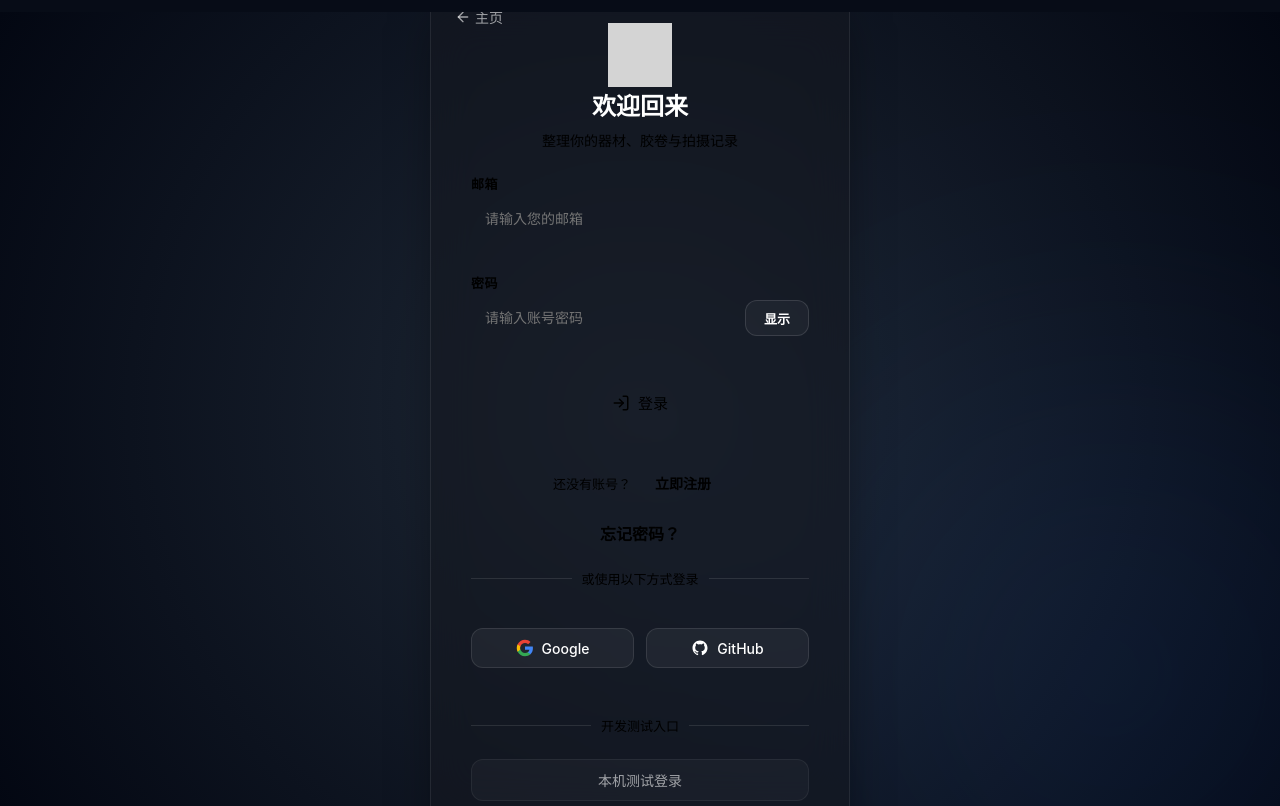
Test: Auth frontend closure › register flow sends signup email redirect and navigates to check-email notice
This screenshot has width=1280, height=806.
Click the button "立即注册" at (683,483), box x1=639 y1=465 x2=727 y2=501
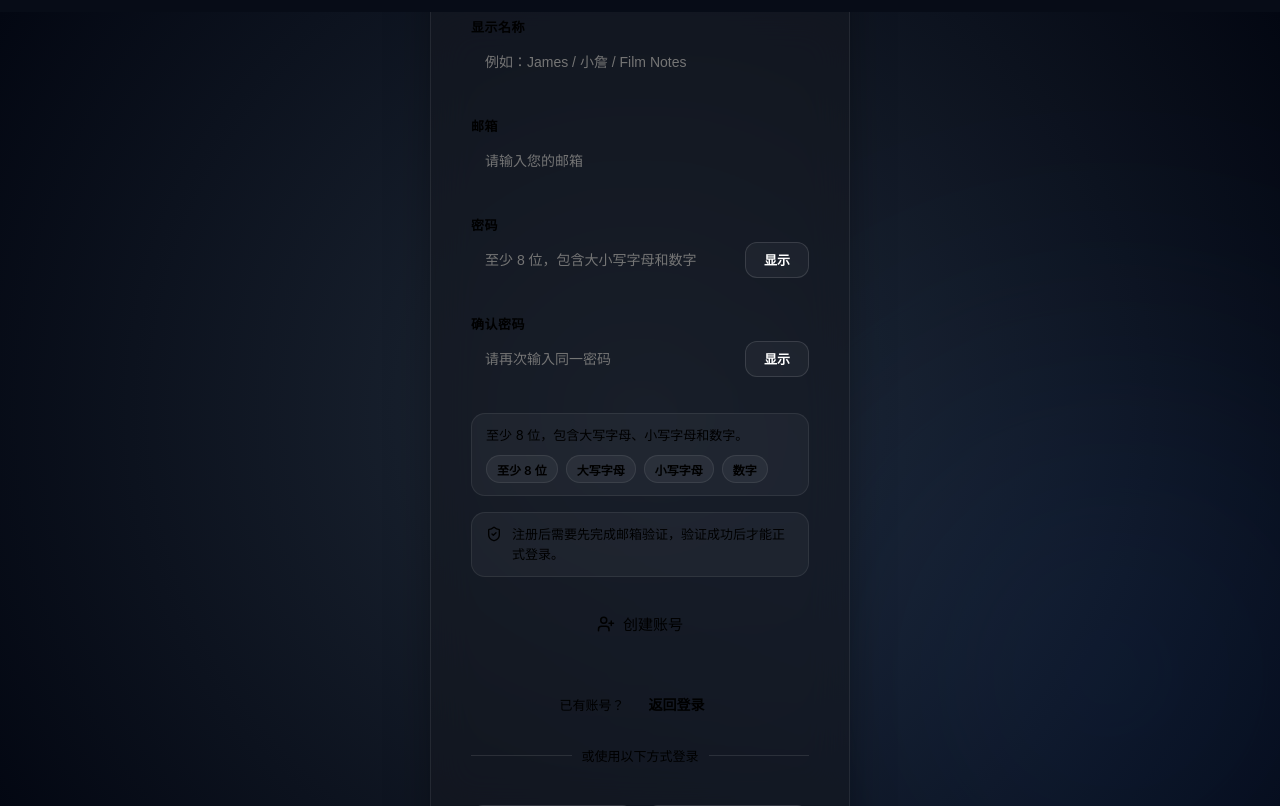
Type "Analog James" into the field labelled "显示名称" at (640,62), box x1=471 y1=44 x2=809 y2=80
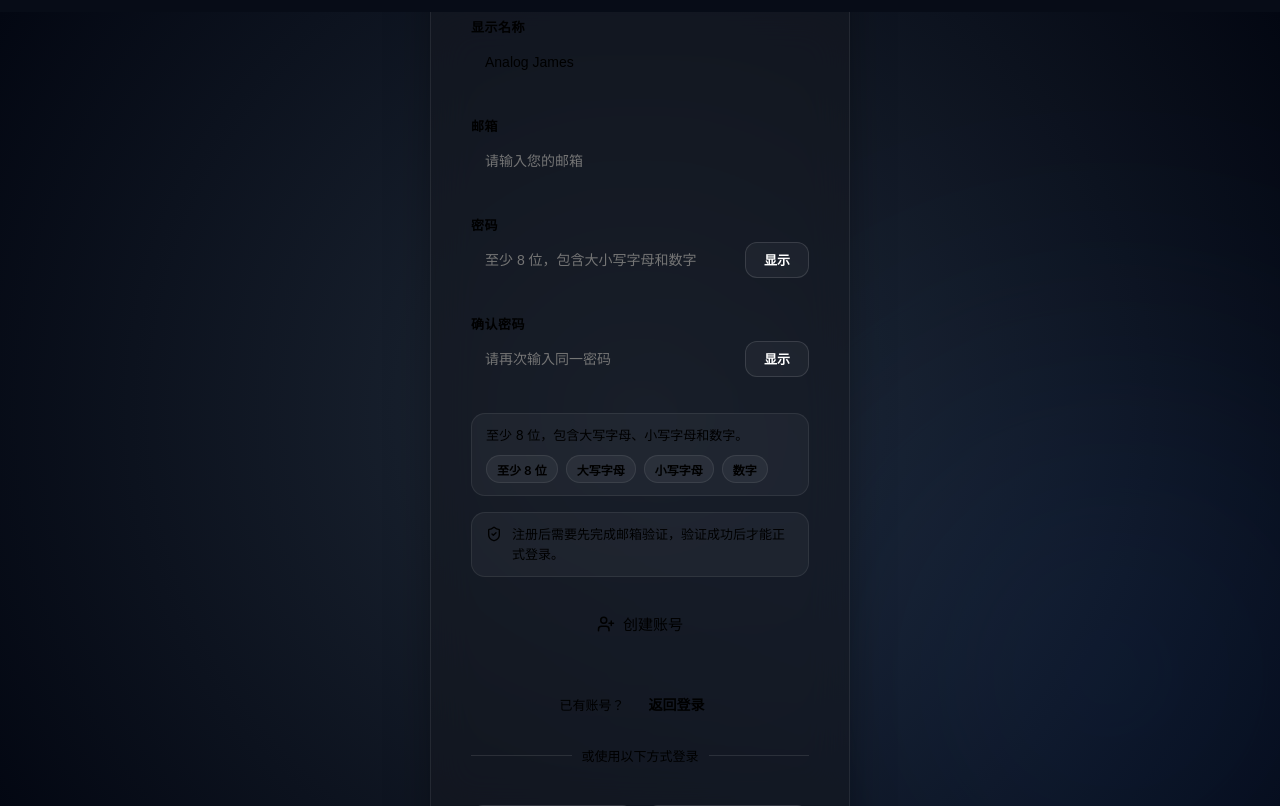
Type "new@filmory.app" into the field labelled "邮箱" at (640,161), box x1=471 y1=143 x2=809 y2=179
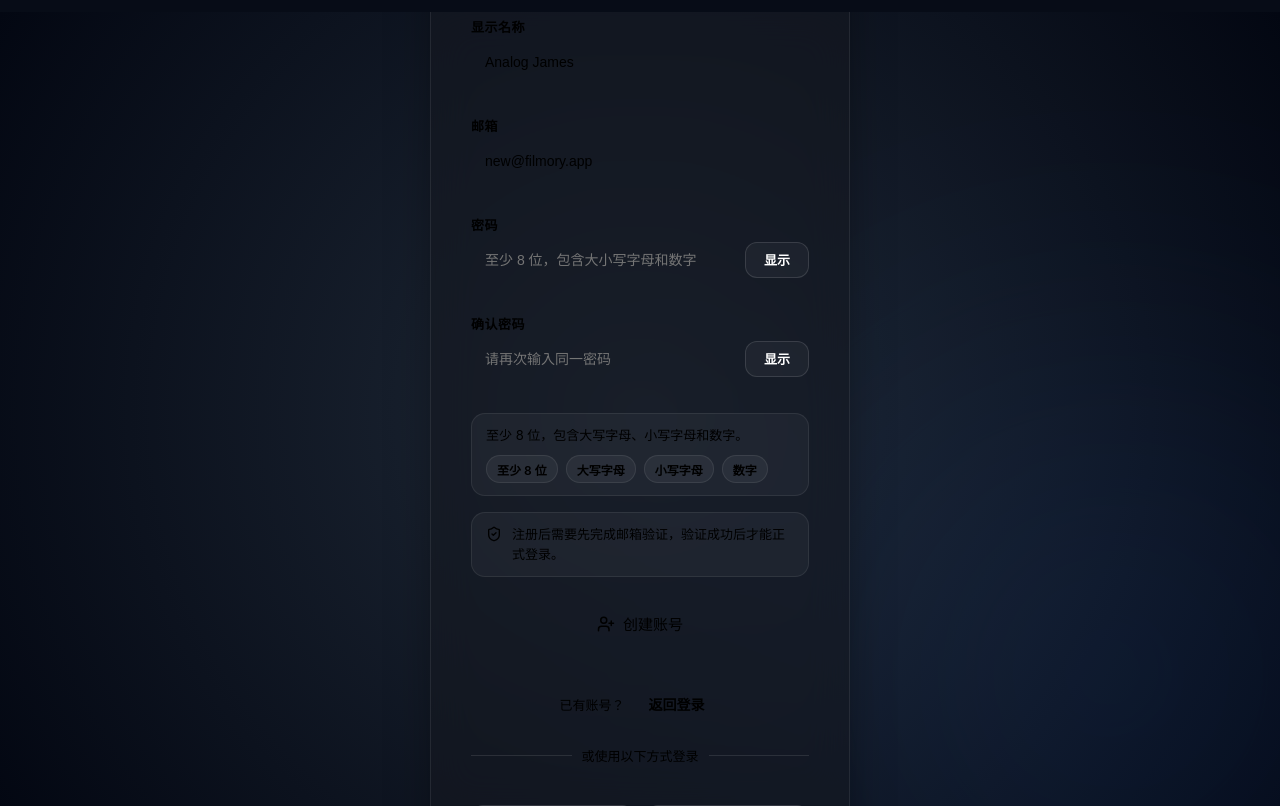
Type "Strongpass1" into the password field labelled "密码" at (603,260), box x1=471 y1=242 x2=735 y2=278
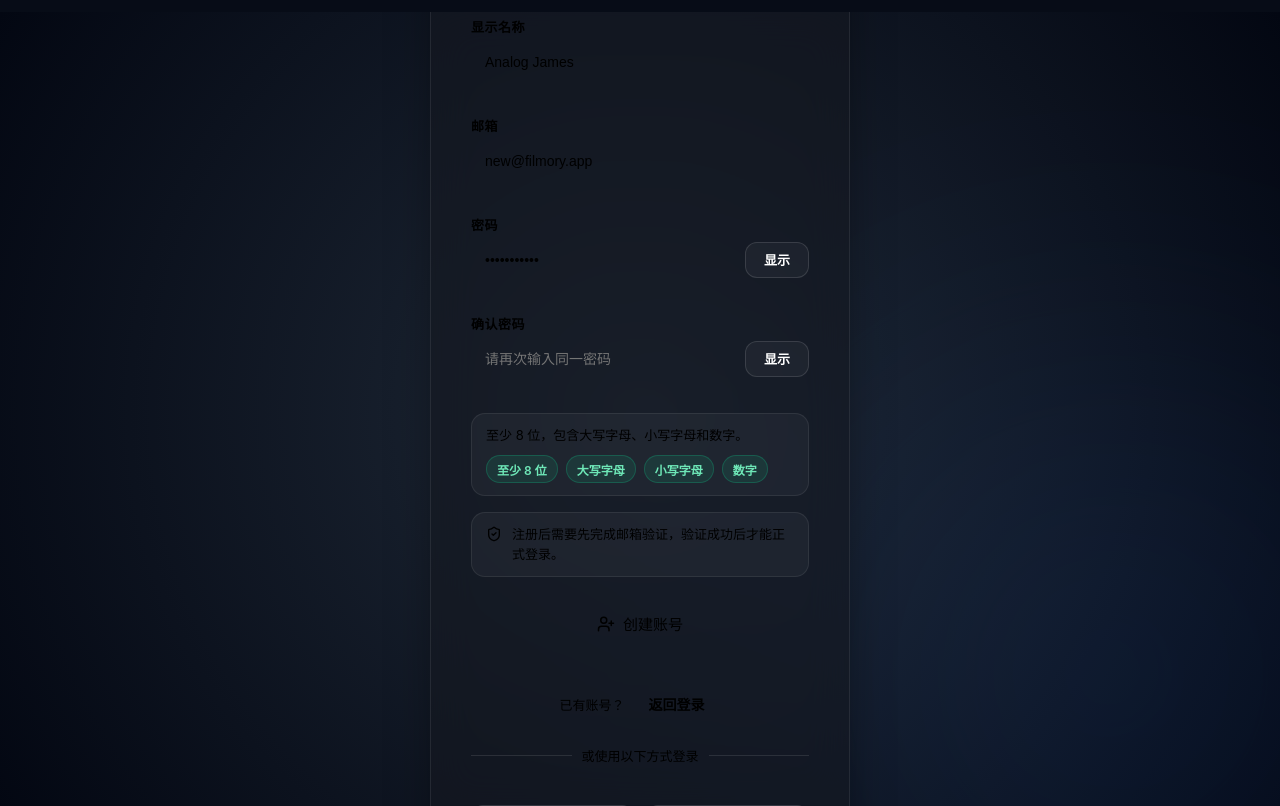
Type "Strongpass1" into the password field labelled "确认密码" at (603,359), box x1=471 y1=341 x2=735 y2=377
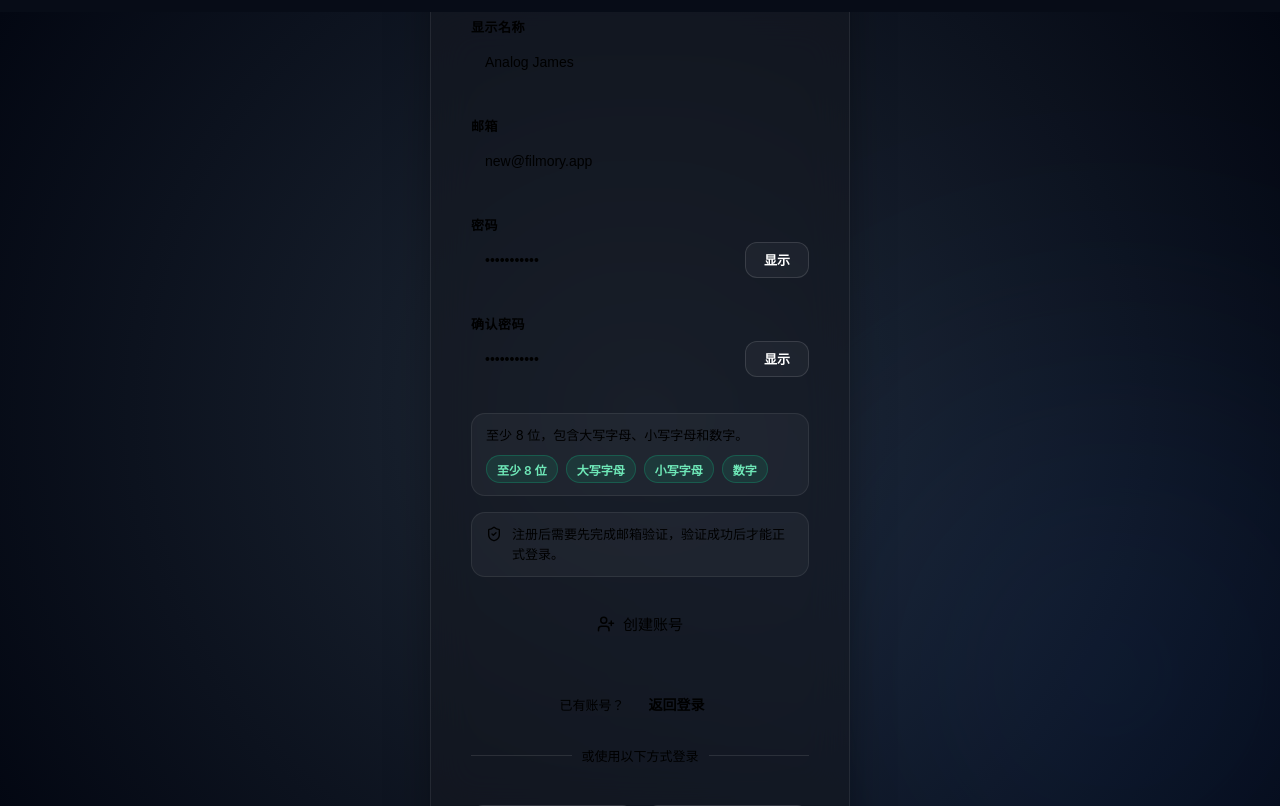
Click the button "创建账号" at (640,624), box x1=471 y1=601 x2=809 y2=646
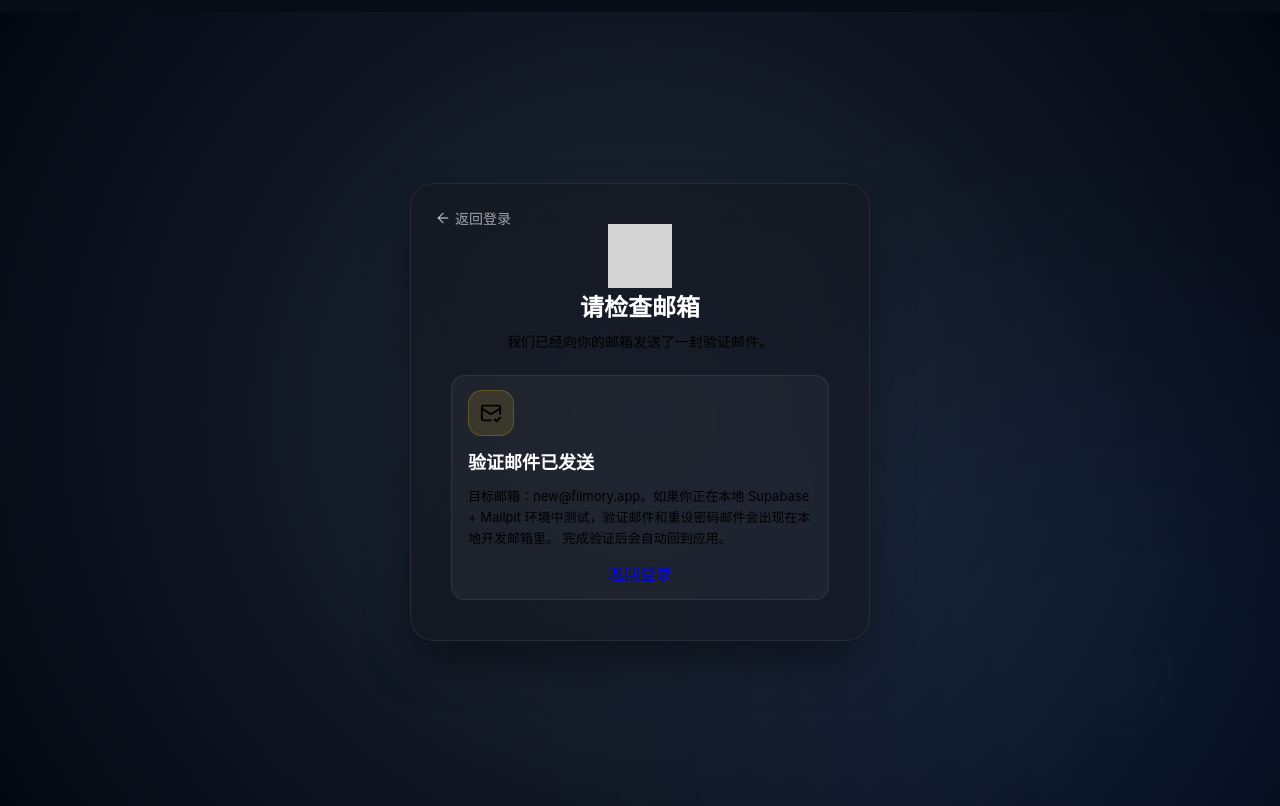
Now the heading "请检查邮箱" is shown, box x1=580 y1=293 x2=700 y2=322
Now the text "目标邮箱：new@filmory.app" is shown, box x1=468 y1=488 x2=811 y2=546
